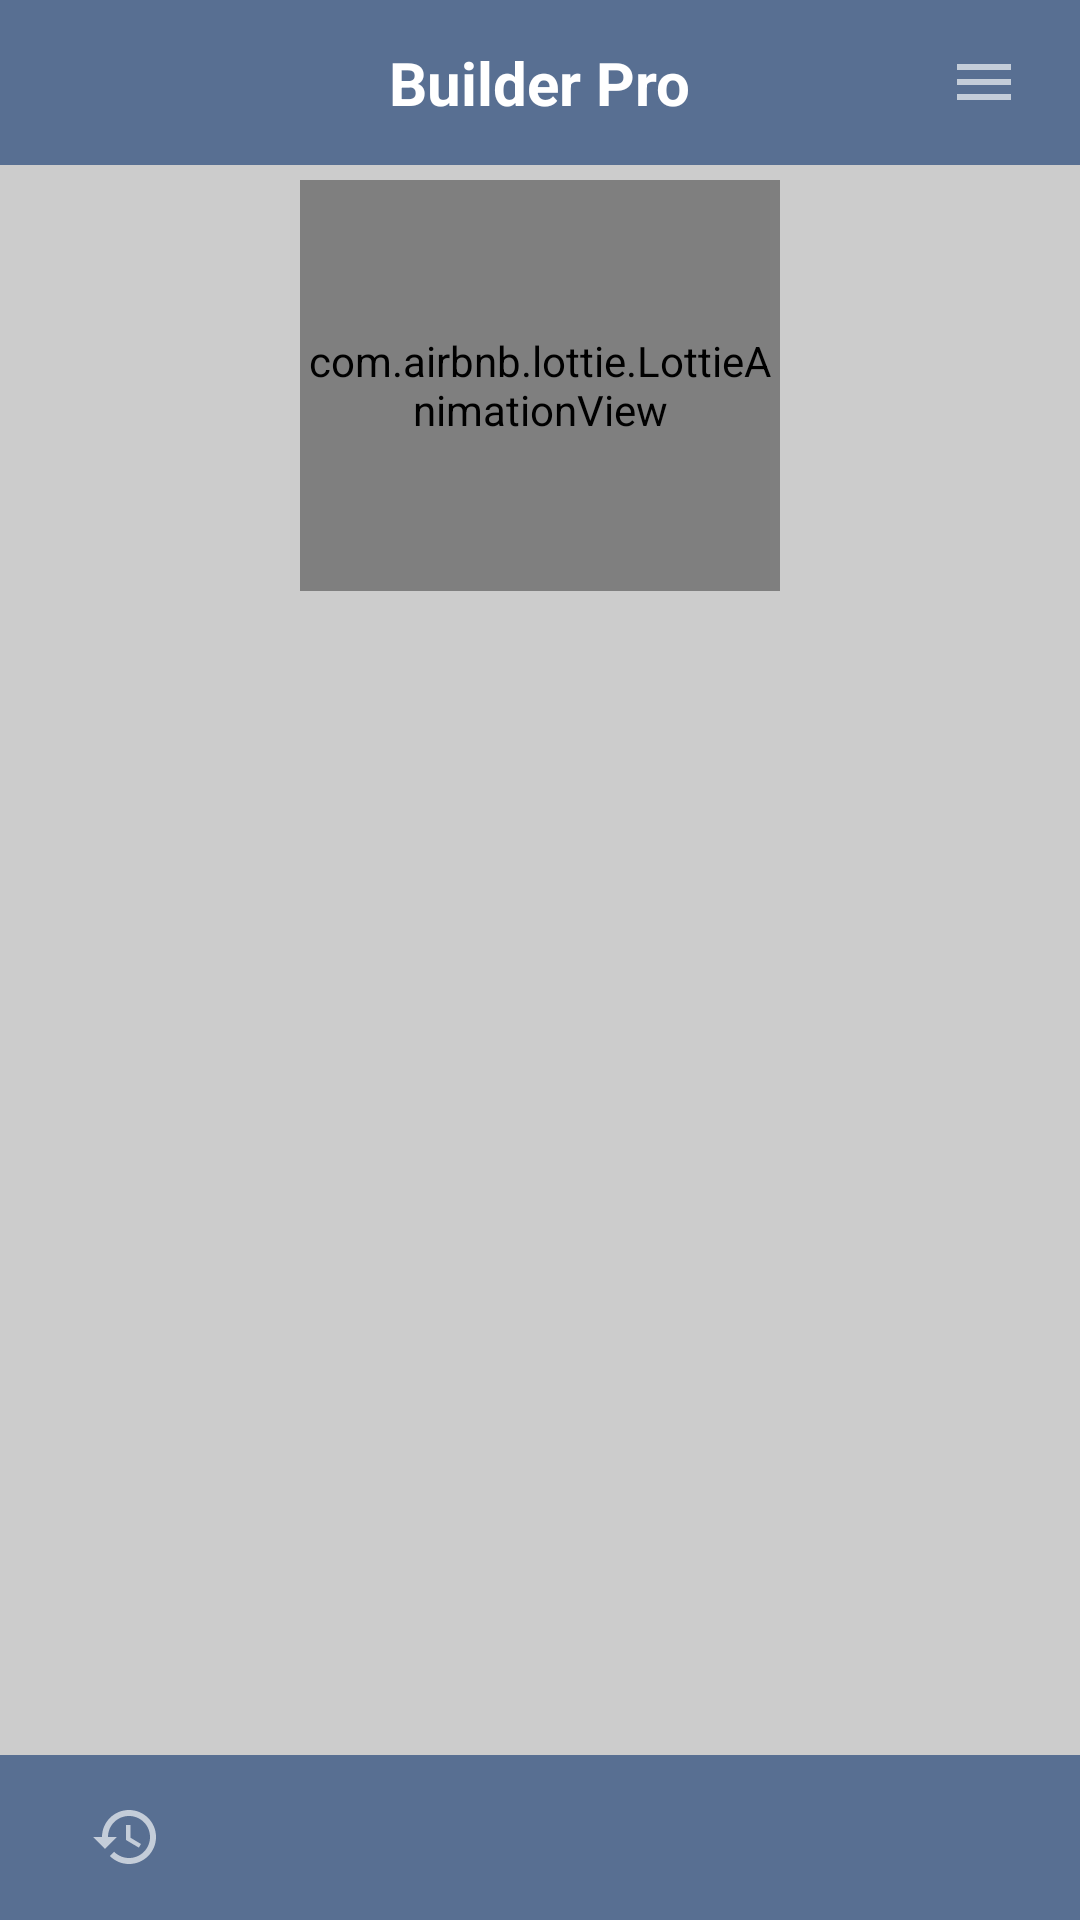

Locate icon controls on the screen. Image size 1080px x 1920px, boxes as (x1, y1, x2, y2).
history: (93, 1810, 156, 1864)
menu: (957, 64, 1011, 100)
